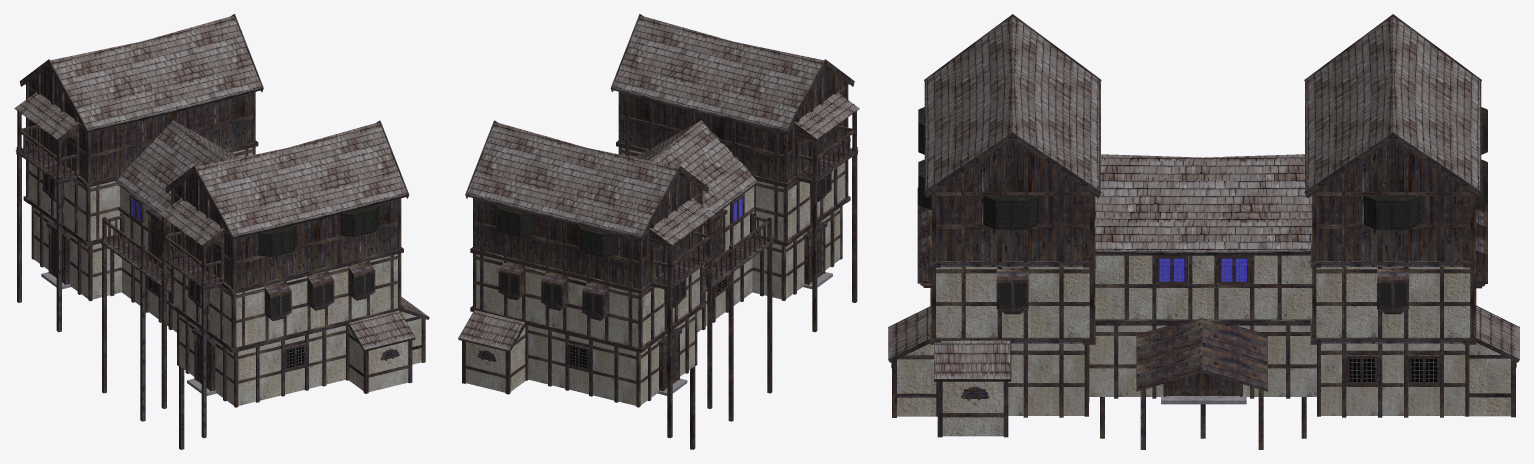
The model's file is hhouse07.dae.
3 views of the same model, side by side, from view 1: azimuth 30°, elevation 25°; view 2: azimuth 150°, elevation 25°; view 3: azimuth 270°, elevation 25° (orthographic). The views are drawn at different scales.
Parts seen in each view (by area): view 1: House2_Roof, House2_Roof_001, House2_Level3_001, House2_Level2_001, House2_Level3, House2_Level1_001, House1_Roof, House2_Level1_Beams_001, House2_Level2_Beams_001, House2_Level2, House2_Level3_Beams, House2_Level3_Beams_001 (+38 smaller); view 2: House2_Roof, House2_Roof_001, House2_Level3, House2_Level2, House2_Level3_001, House2_Level1, House1_Roof, House2_Level2_Beams, House2_Level3_Beams_001, House2_Level1_Beams, House2_Level3_Beams, House2_Level2_001 (+39 smaller); view 3: House1_Roof, House2_Roof, House2_Roof_001, House2_Level3_001, House2_Level3, House1_Level2, House2_Level2_001, House2_Level2, House2_Level1, House1_Level1, House2_Level1_001, Roof1Outer_001 (+38 smaller).
Part boxes in pixels (box(x1,y1,x2,y2)): House2_Roof: box(50, 15, 261, 129); House2_Roof_001: box(196, 122, 407, 235); House2_Level3_001: box(174, 174, 397, 288); House2_Level2_001: box(174, 254, 397, 347); House2_Level3: box(29, 67, 252, 181); House2_Level1_001: box(179, 314, 345, 405); House1_Roof: box(117, 120, 237, 213); House2_Level1_Beams_001: box(177, 312, 349, 407); House2_Level2_Beams_001: box(171, 250, 401, 348); House2_Level2: box(29, 147, 252, 240); House2_Level3_Beams: box(26, 69, 255, 182); House2_Level3_Beams_001: box(171, 176, 401, 289); House2_Roof: box(467, 122, 678, 235); House2_Roof_001: box(613, 15, 823, 129); House2_Level3: box(476, 174, 699, 288); House2_Level2: box(476, 254, 699, 347); House2_Level3_001: box(621, 67, 845, 181); House2_Level1: box(528, 314, 694, 405); House1_Roof: box(636, 120, 757, 213); House2_Level2_Beams: box(473, 250, 702, 348); House2_Level3_Beams_001: box(618, 70, 848, 182); House2_Level1_Beams: box(525, 312, 697, 407); House2_Level3_Beams: box(473, 176, 702, 289); House2_Level2_001: box(621, 148, 845, 240); House1_Roof: box(1095, 154, 1312, 251); House2_Roof: box(1306, 16, 1479, 189); House2_Roof_001: box(926, 16, 1099, 189); House2_Level3_001: box(936, 140, 1089, 260); House2_Level3: box(1316, 140, 1470, 260); House1_Level2: box(1095, 255, 1312, 319); House2_Level2_001: box(936, 267, 1089, 337); House2_Level2: box(1316, 267, 1470, 337); House2_Level1: box(1321, 343, 1465, 415); House1_Level1: box(1089, 325, 1316, 396); House2_Level1_001: box(1008, 343, 1084, 415); Roof1Outer_001: box(1137, 342, 1267, 388).
Size of the model in its own units: 11.35 by 19.7 by 14.09.
Materials: 28 (28 with a texture image).
